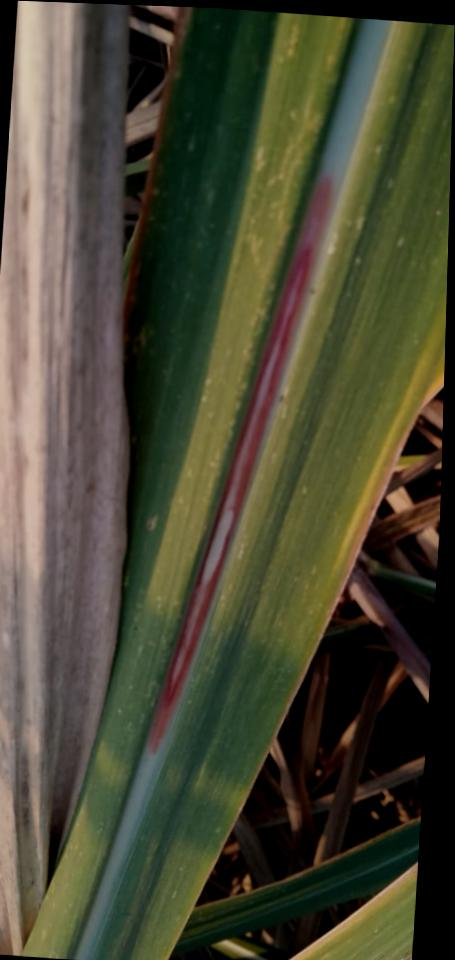RedRot: (155, 176, 331, 751)
